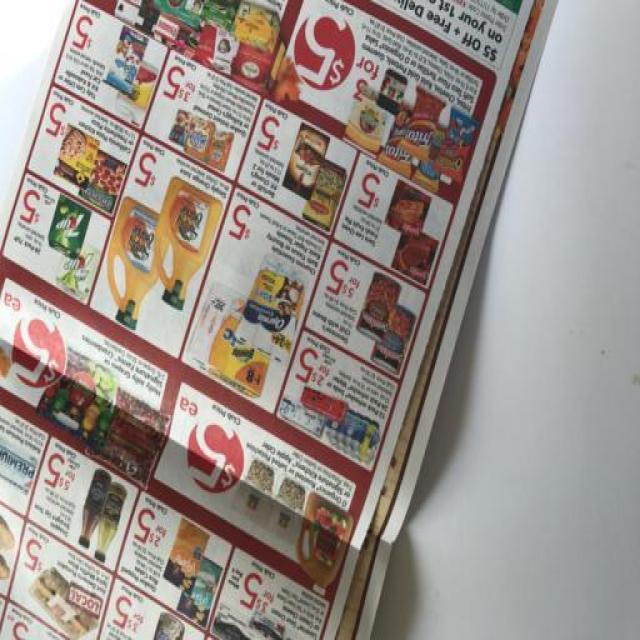paper: (2, 2, 575, 640)
